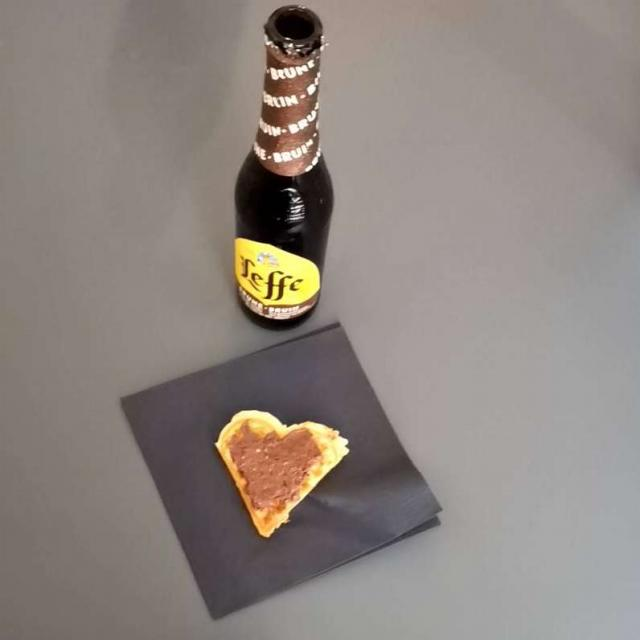hazelnut-chocolate-spread-nutella-ovomaltine-caotina: (234, 427, 321, 517)
waffle: (217, 413, 346, 537)
